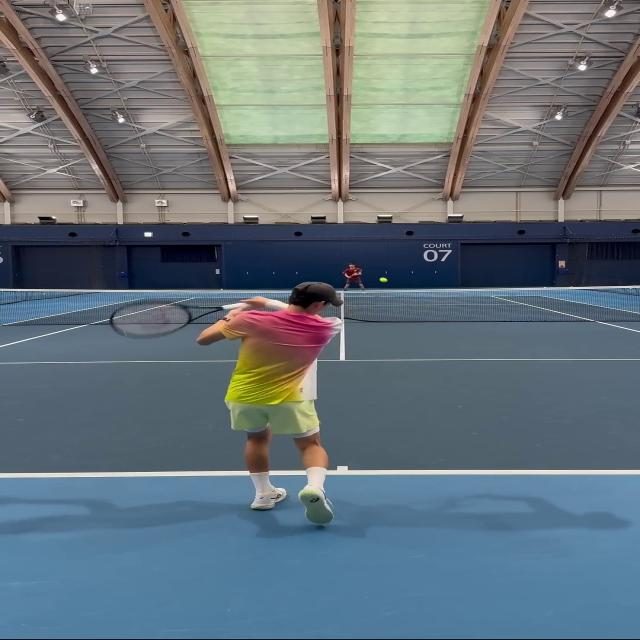tennis_ball: (381, 278, 386, 282)
